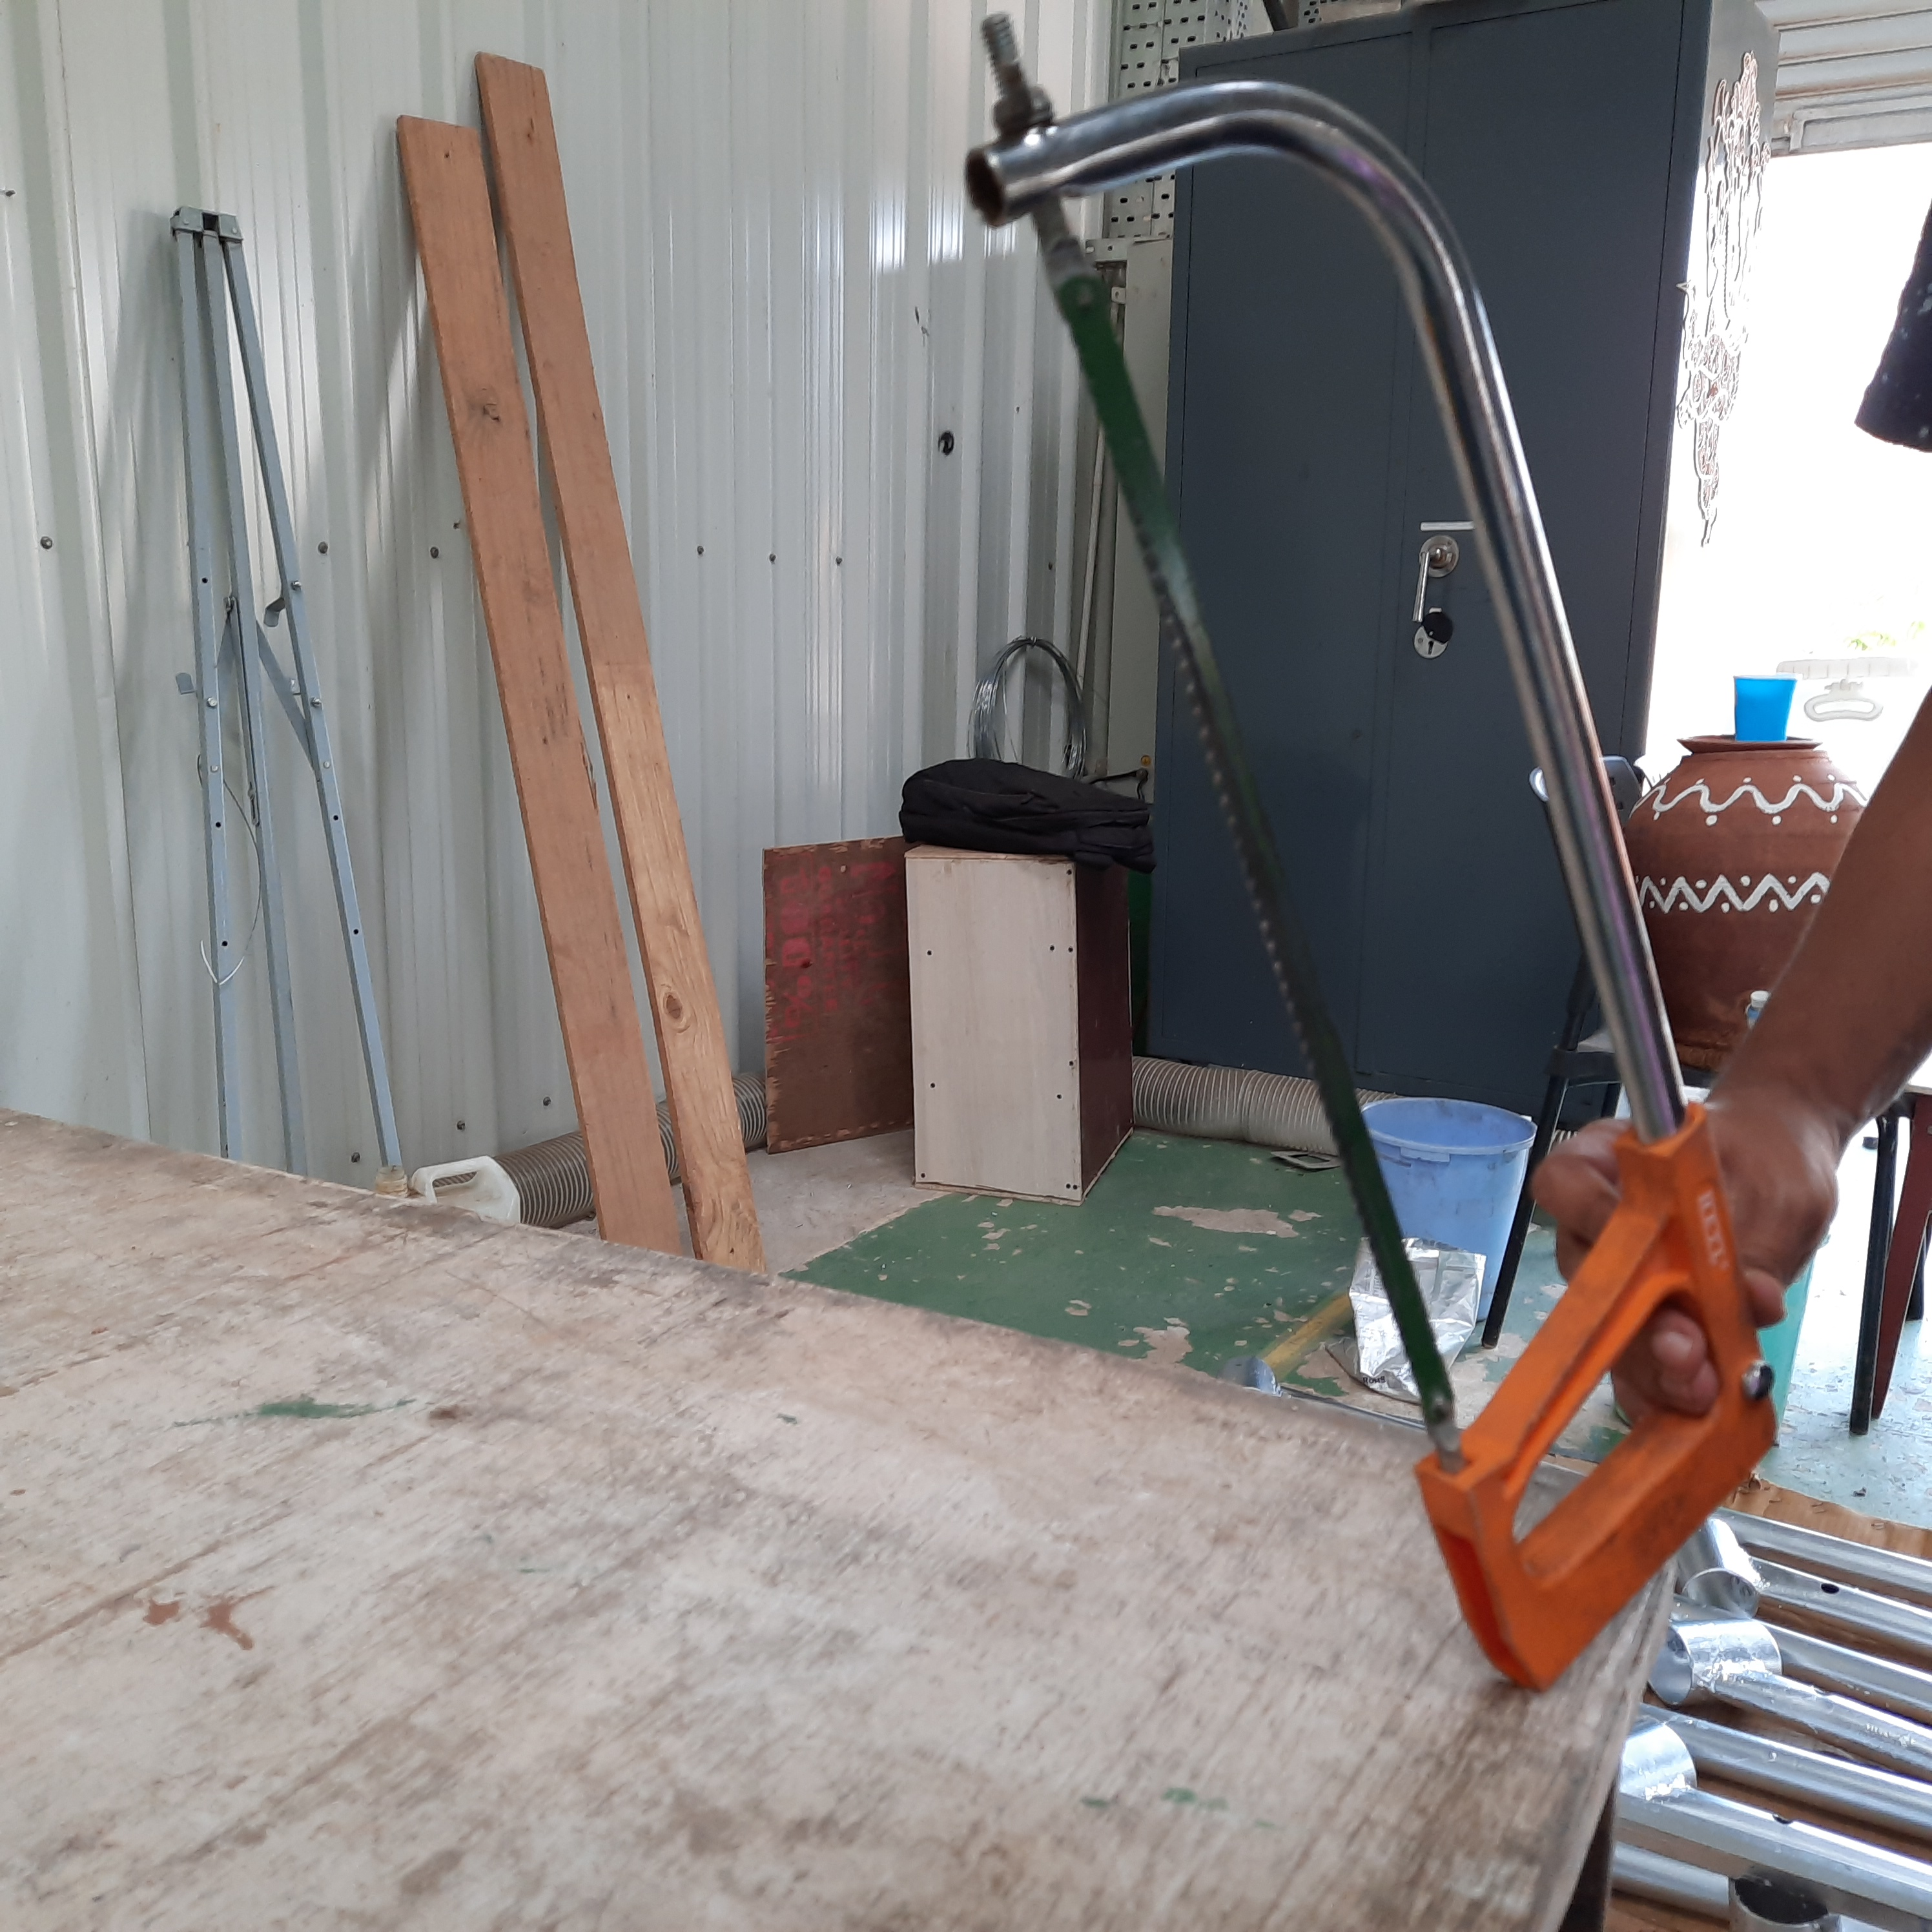Hexaframe: (945, 4, 1805, 1706)
